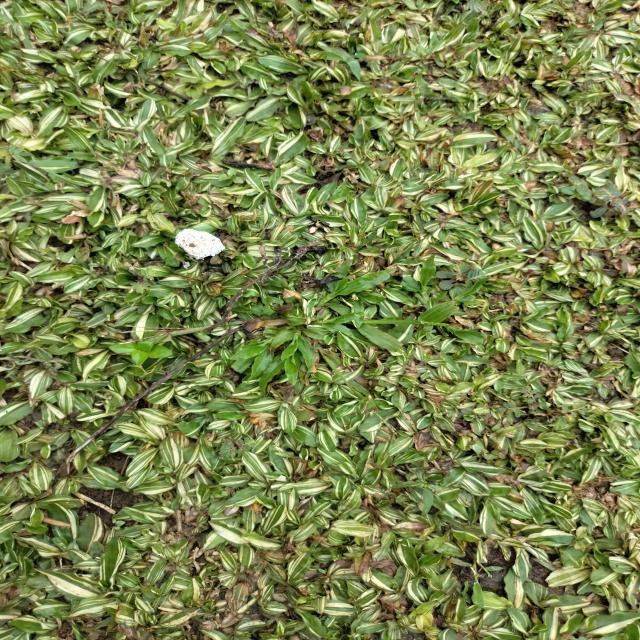bayi: (112, 518, 126, 532)
buah daun: (495, 384, 592, 432), (592, 181, 634, 222), (439, 260, 488, 294), (128, 266, 159, 294), (217, 437, 256, 457), (82, 1, 124, 15), (0, 147, 32, 165)
rambat atas: (306, 45, 366, 84), (474, 560, 507, 579)
rambat bawah: (312, 298, 460, 352), (232, 329, 320, 390), (317, 266, 398, 309), (399, 256, 438, 306)
ungu tunggang: (107, 339, 177, 367)
